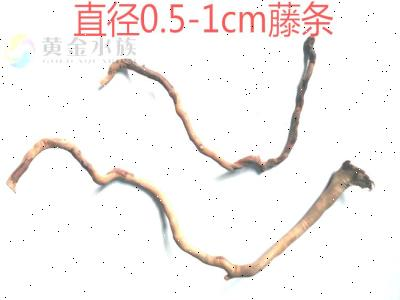Root: (6, 138, 374, 280), (100, 36, 316, 172)
